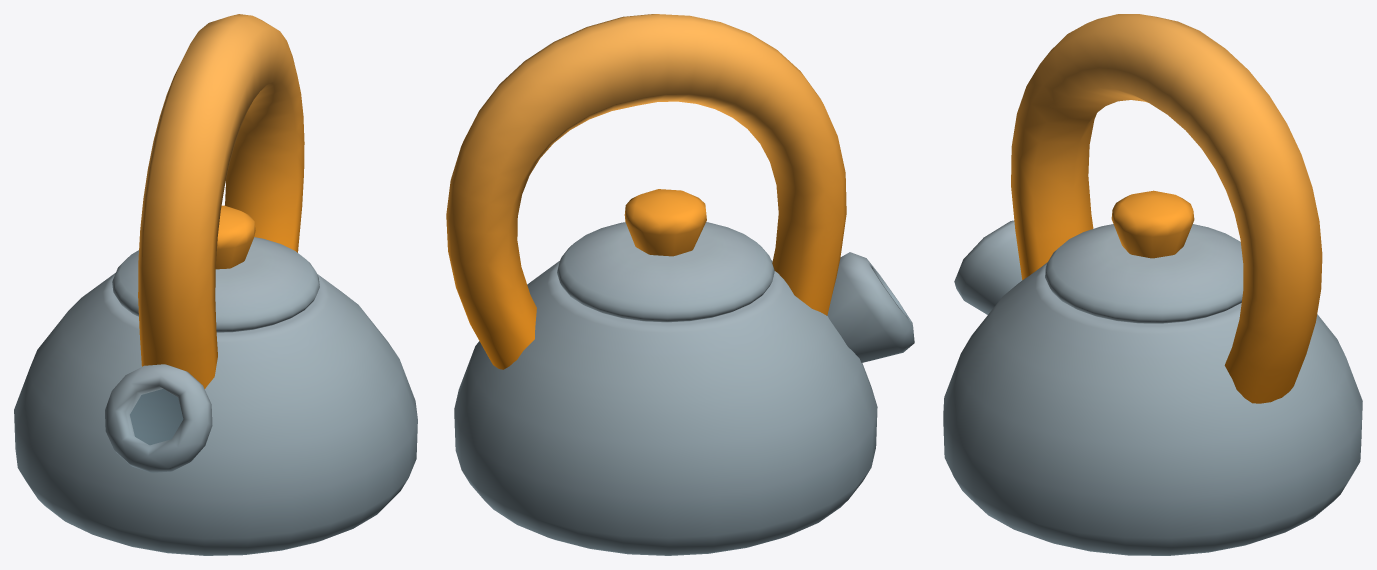
Rendered from Teapot_001.glb.
The picture shows the model from 3 angles, left to right: view 1: azimuth 30°, elevation 25°; view 2: azimuth 150°, elevation 25°; view 3: azimuth 270°, elevation 25°; orthographic projection. The views are drawn at different scales.
Visible parts, largest first — view 1: Teapot_001; view 2: Teapot_001; view 3: Teapot_001.
Part boxes in pixels (x1,y1,x2,y2): Teapot_001: (14,14,417,555); Teapot_001: (446,14,914,555); Teapot_001: (943,14,1362,555).
Bounding box in the file's own units: 0.1925 × 0.2346 × 0.1925.
Materials: 1 (1 with a texture image).
